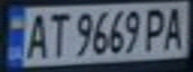6: (90, 8, 112, 55), (106, 7, 127, 55)
9: (121, 7, 145, 54), (72, 8, 93, 57)
A: (21, 9, 51, 60), (160, 3, 190, 52)
P: (142, 5, 169, 53)
T: (42, 9, 69, 58)
